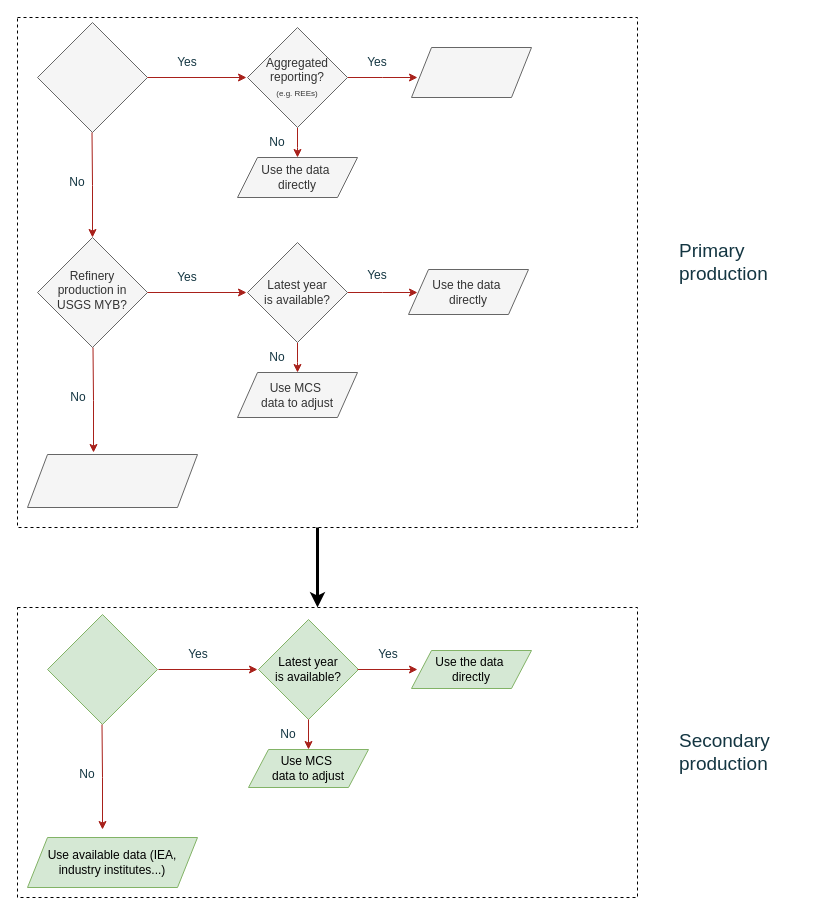
Image size: 825x915. Some labels were removed from this diagram. Here are the shapes that lost their labels. From the top down, the centre of each, then its label:
the point at 92,77: Refinery production in USGS MCS?
the point at 471,72: Use Lundaev et al ratio
the point at 112,481: Use production yield from Chartier-Poncelet et al
the point at 102,669: Secondary production in USGS MCS?
